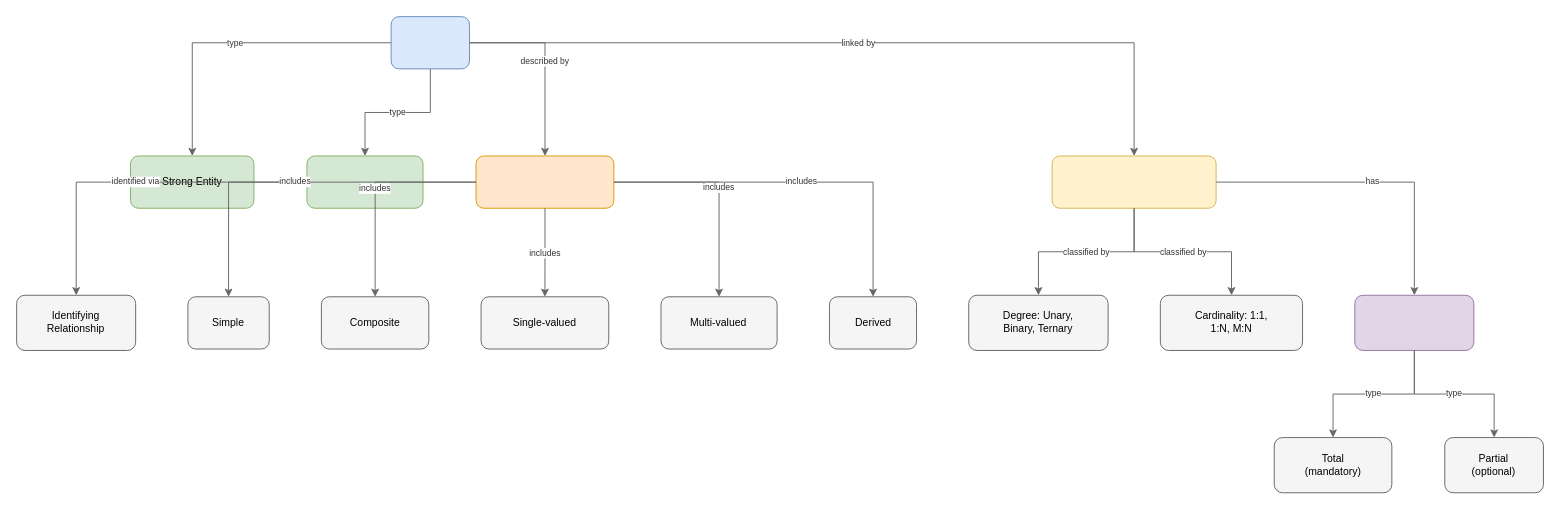
The diagram is 1561 pixels wide and 510 high, and some of its shapes have lost their labels. Each missing label, with the centre of its shape:
"Attribute Types" goes at point 544,181.
"Entity" goes at point 429,42.
"Participation Constraints" goes at point 1414,322.
"Relationship Types" goes at point 1133,181.
"Weak Entity" goes at point 364,181.
